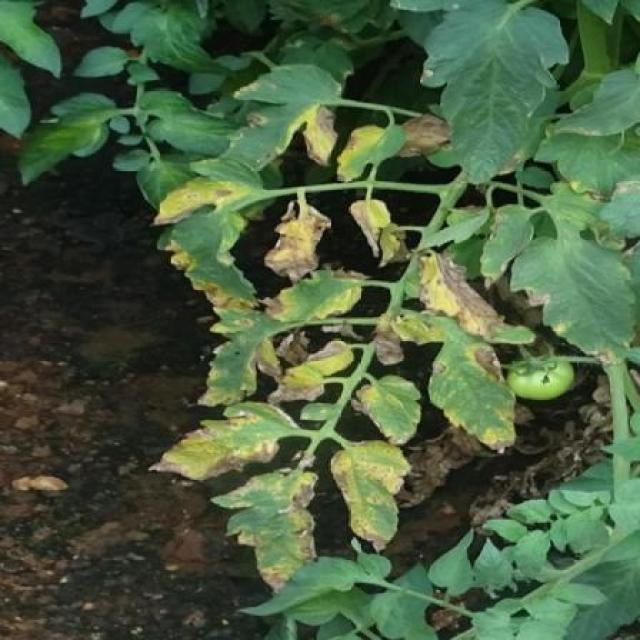Early Blight: (391, 312, 522, 457), (152, 159, 268, 315), (511, 235, 638, 366), (220, 64, 346, 175), (211, 472, 318, 597), (146, 398, 297, 482), (192, 316, 292, 409), (326, 443, 408, 554), (336, 121, 410, 188), (355, 378, 421, 448)
